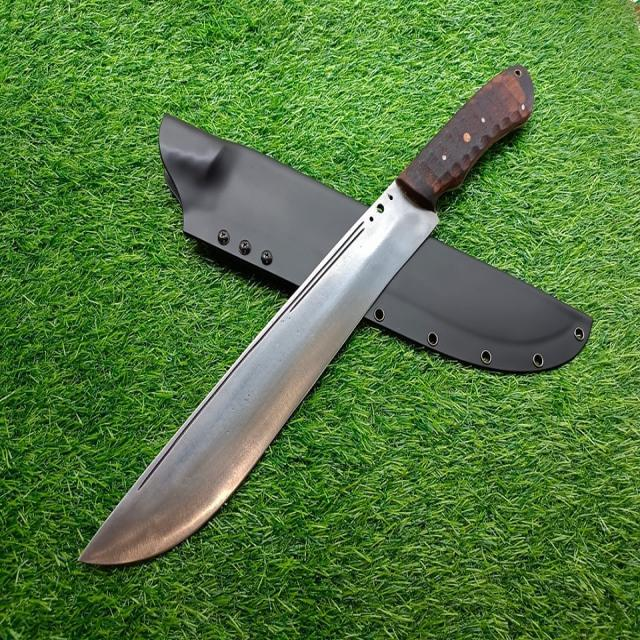eto: (71, 46, 548, 576)
